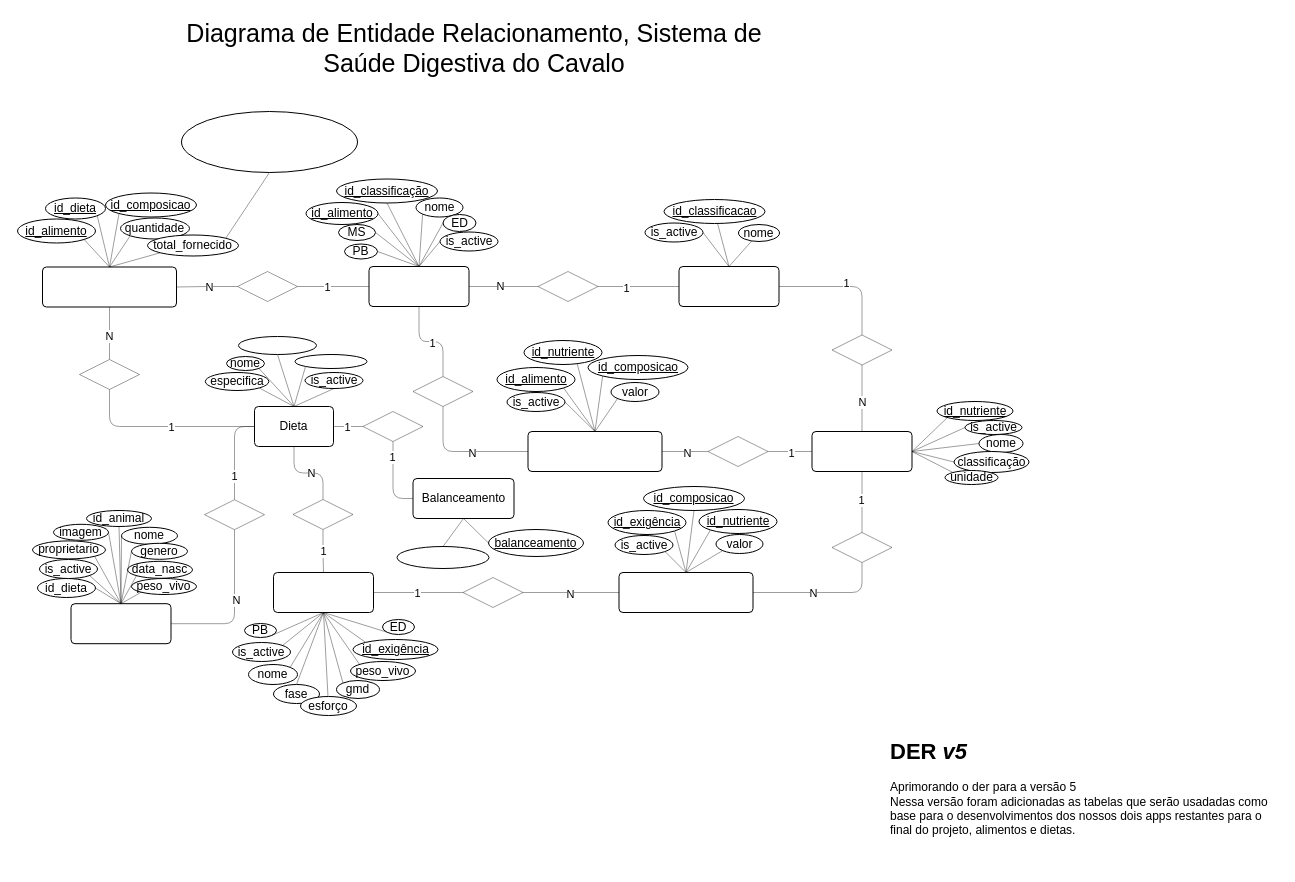
Image size: 1295x882. Some labels were removed from this diagram. Here are the shapes that lost their labels. From the top down, the centre of each, then its label:
At [269,141]: "qtd * composição nutricional (tabela composição alimento)".
At [109,286]: "ComposiçãoDieta".
At [418,286]: "Alimento".
At [728,286]: "Classificacao".
At [277,345]: "id_exigencia".
At [330,361]: "descricao".
At [594,451]: "ComposiçãoAlimento".
At [861,451]: "Nutriente".
At [442,557]: "totalfornecido".
At [323,592]: "Exigência".
At [685,592]: "ComposiçãoExigência".
At [120,623]: "Animal".
